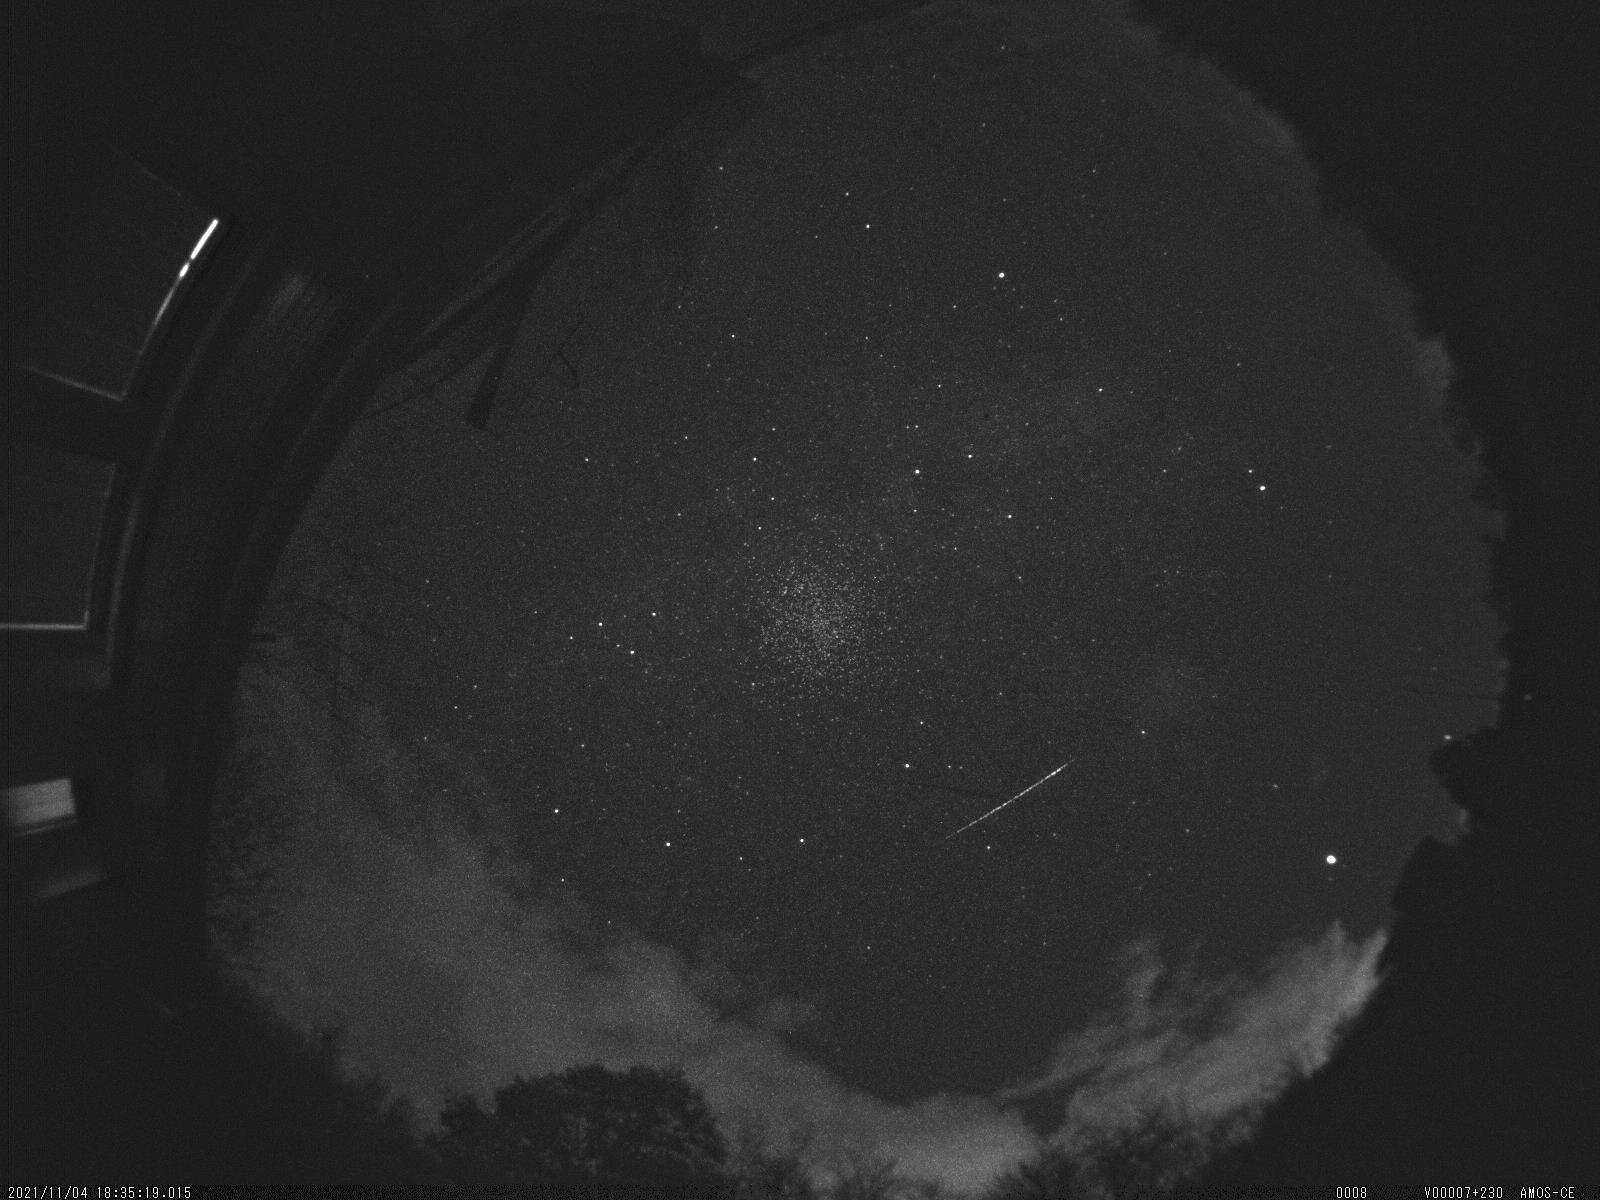Meteor: (941, 758, 1081, 845)
